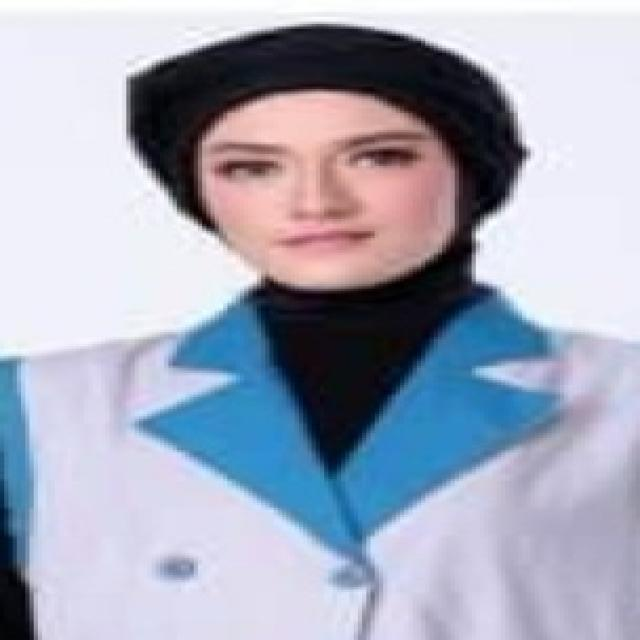head: (140, 27, 540, 299)
